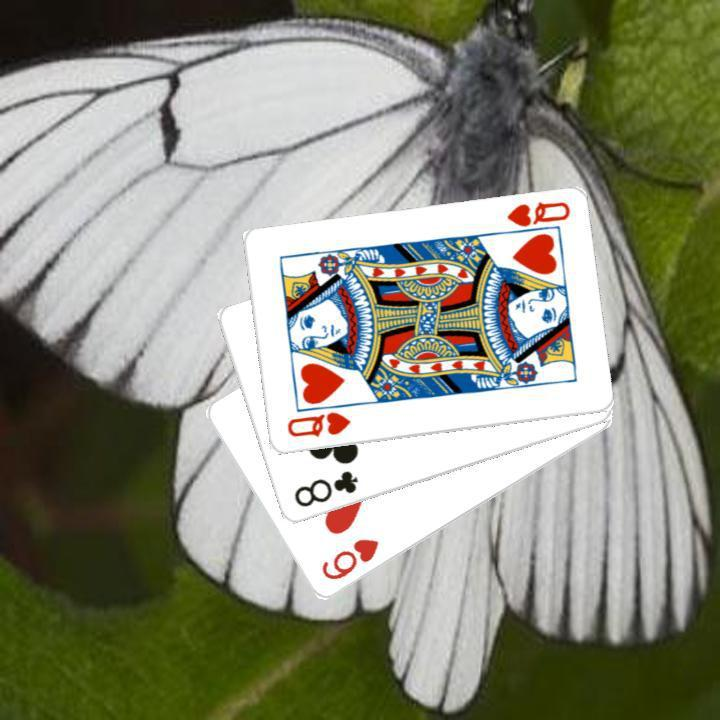6: (316, 535, 381, 583)
8: (289, 466, 360, 510)
Q: (495, 197, 572, 238), (282, 408, 352, 440)
